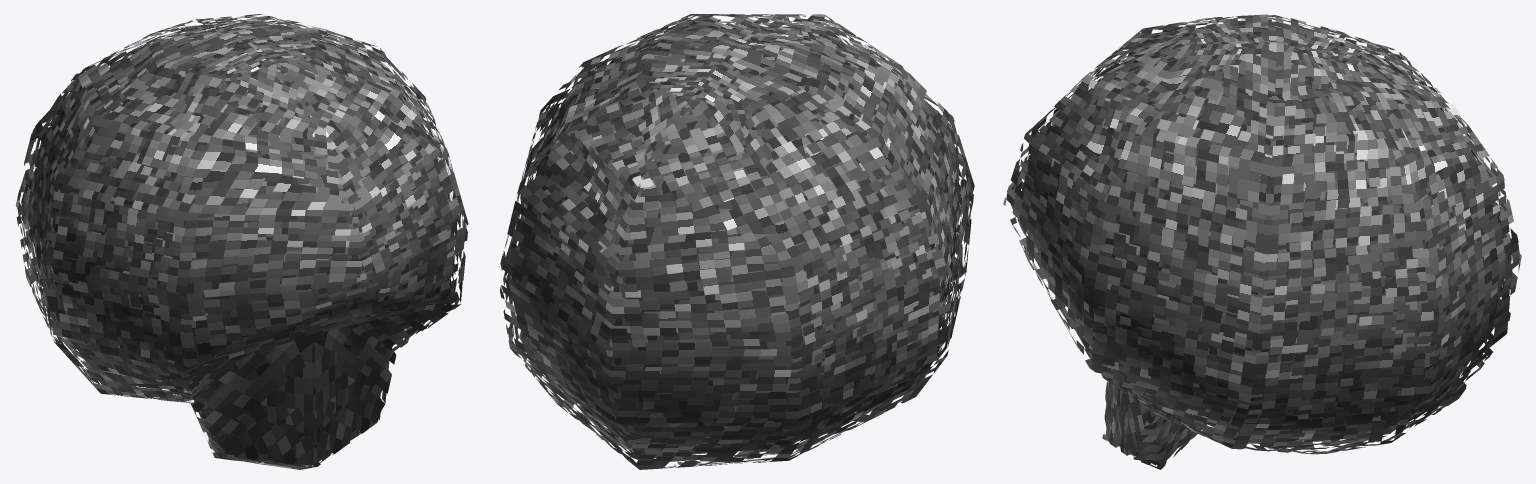
The model's file is m_body011.glb.
3 renders of one model, left to right at view 1: azimuth 30°, elevation 25°; view 2: azimuth 150°, elevation 25°; view 3: azimuth 270°, elevation 25°, orthographic. The views are drawn at different scales.
Bounding box in the file's own units: 36.82 × 34 × 38.61.
Materials: 1 (1 with a texture image).
